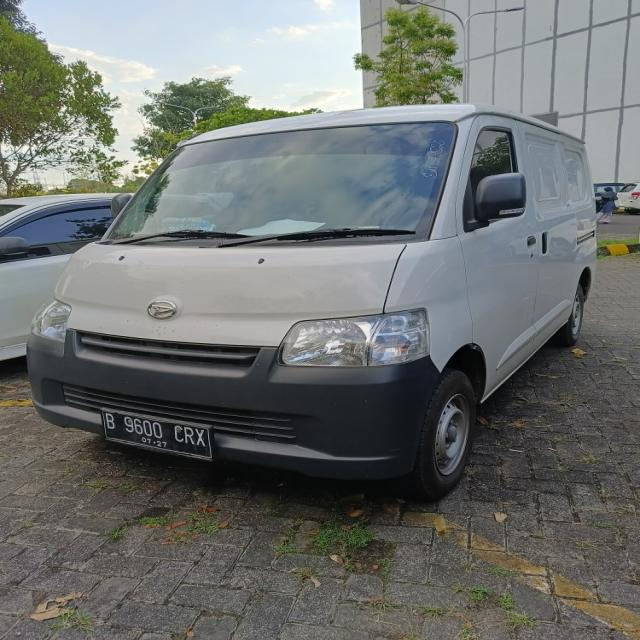plates: (98, 408, 224, 474)
